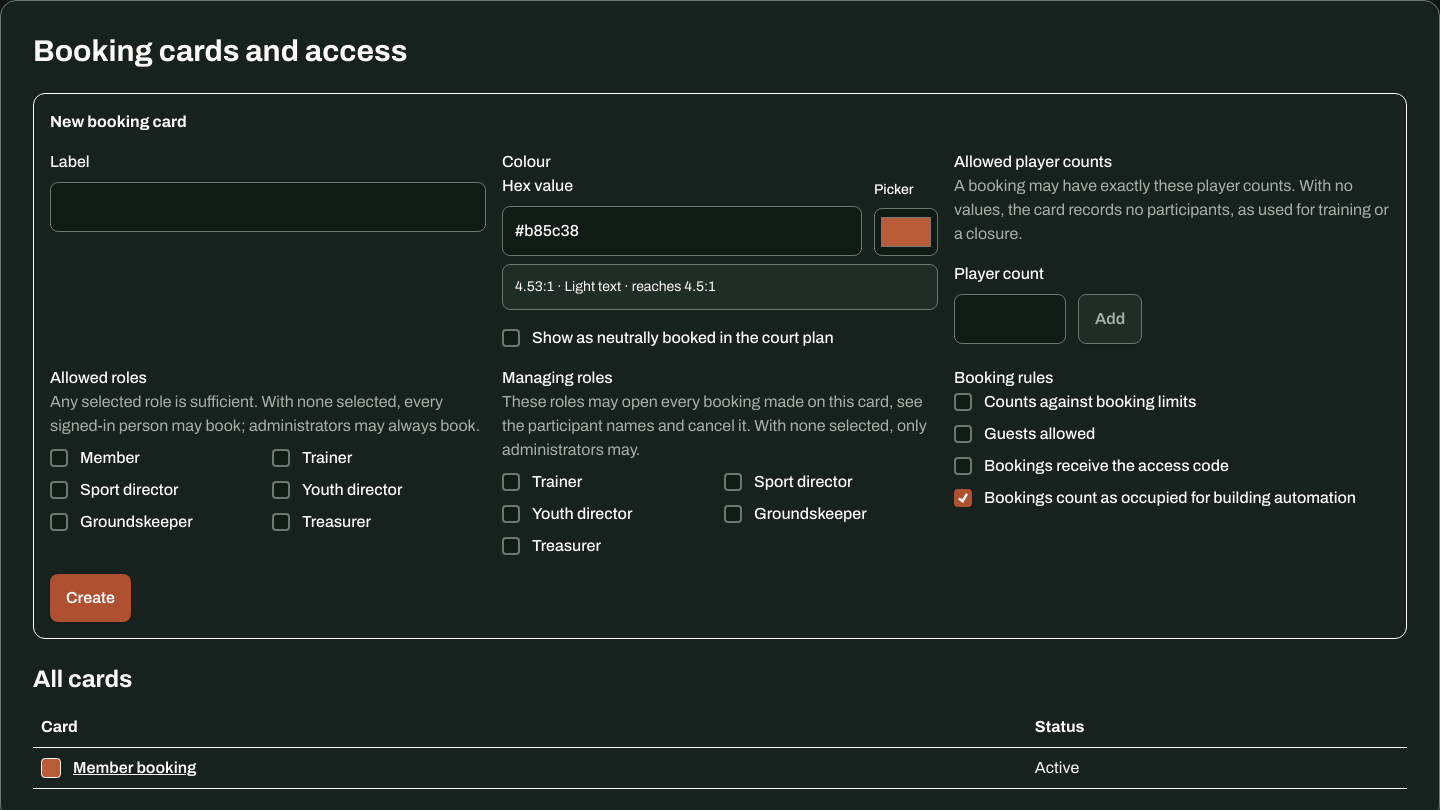
AdminBookingCardsView › given a new card, when its colour would leave its label hard to read, then the board is told before creating it
In the colour field with test id "new-card-color": coordinates (906, 232) [874,208,938,256], type "#777777"
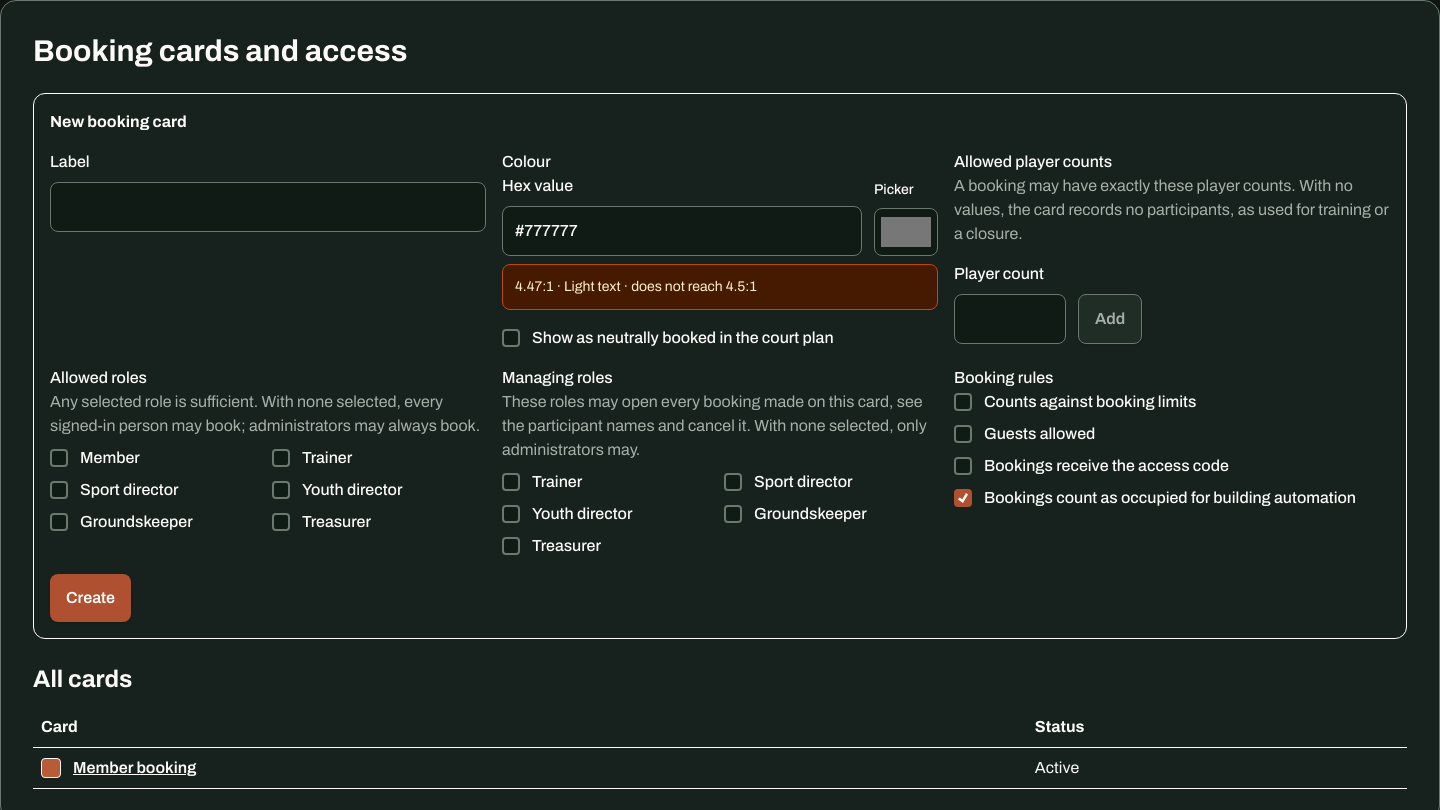
Now the text with test id "new-card-color-contrast" shows "does not reach 4.5:1", box [515,279,757,294]
